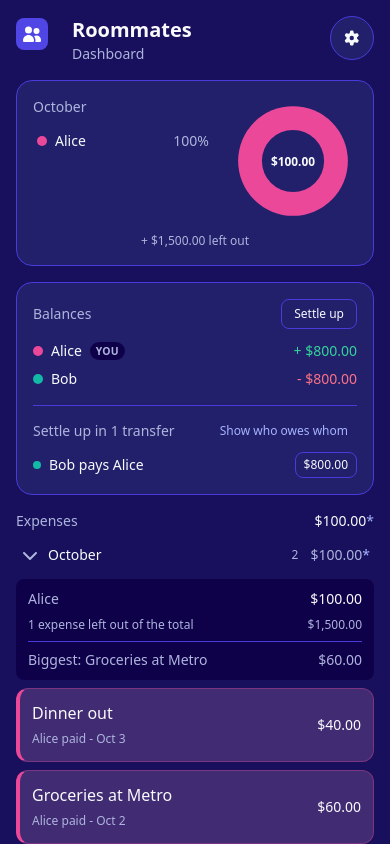
totals when the group leaves names out › says what the group really came to when the total is asked
This screenshot has width=390, height=844.
Click the button with test id "group-total" at (344, 521), box x1=314 y1=511 x2=374 y2=531
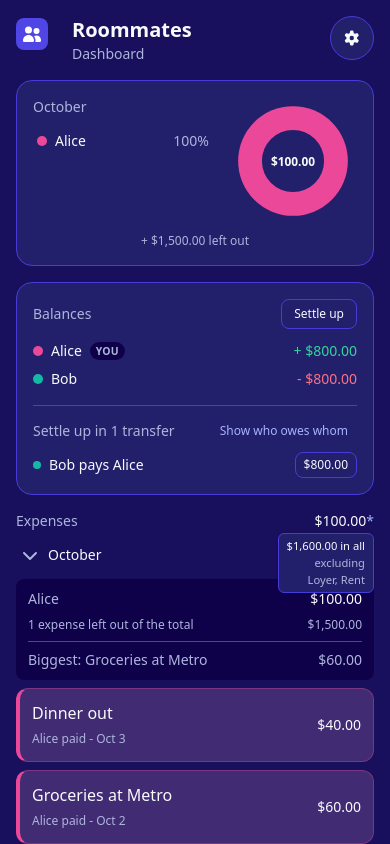
Check: the element with test id "group-left-out" shows "$1,600.00", box x1=286 y1=538 x2=365 y2=553
